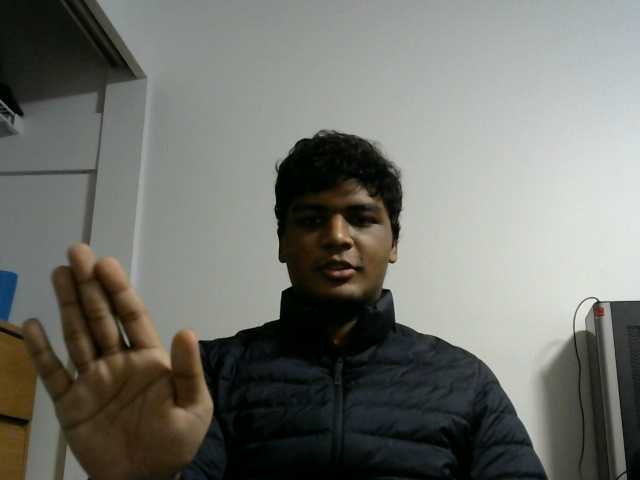Hi: (10, 236, 224, 480)
